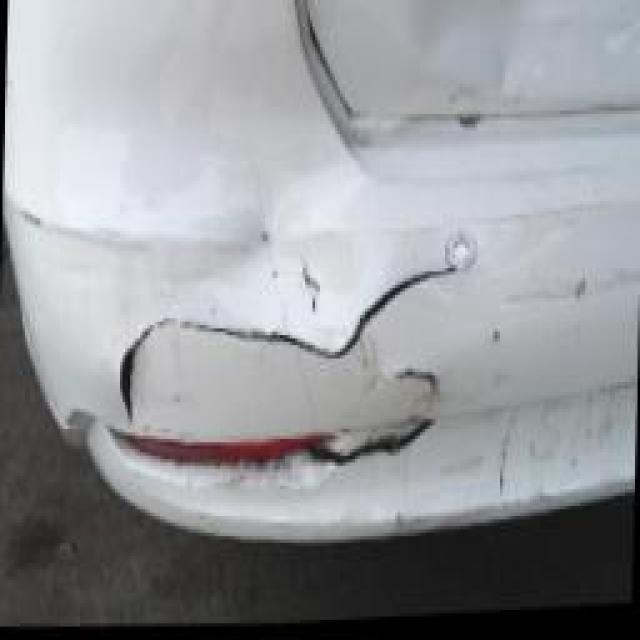Bumper: (11, 199, 524, 521)
